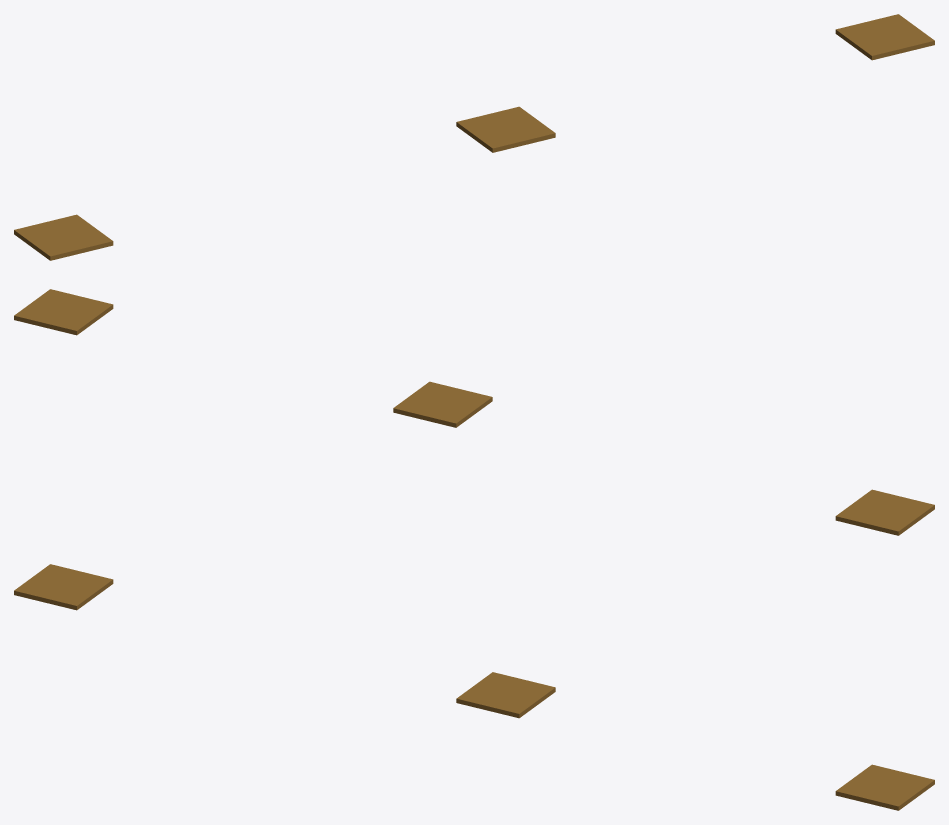
File: frame_top.fbx
3 views of the same model, one above another, from view 1: azimuth 30°, elevation 25°; view 2: azimuth 150°, elevation 25°; view 3: azimuth 330°, elevation 25° (orthographic).
Parts seen in each view (by area): view 1: top_frame1, top_frame2, top_frame3; view 2: top_frame1, top_frame2, top_frame3; view 3: top_frame1, top_frame2, top_frame3.
Boxes of the visible parts, box(x1,y1,x2,y2) form: top_frame1: box(835, 14, 934, 60); top_frame2: box(456, 106, 555, 152); top_frame3: box(14, 214, 113, 260); top_frame1: box(14, 289, 113, 335); top_frame2: box(393, 381, 492, 427); top_frame3: box(835, 489, 934, 535); top_frame1: box(835, 764, 934, 810); top_frame2: box(456, 672, 555, 718); top_frame3: box(14, 564, 113, 610).
Size of the model in its own units: 1400 by 6.64 by 99.62.
